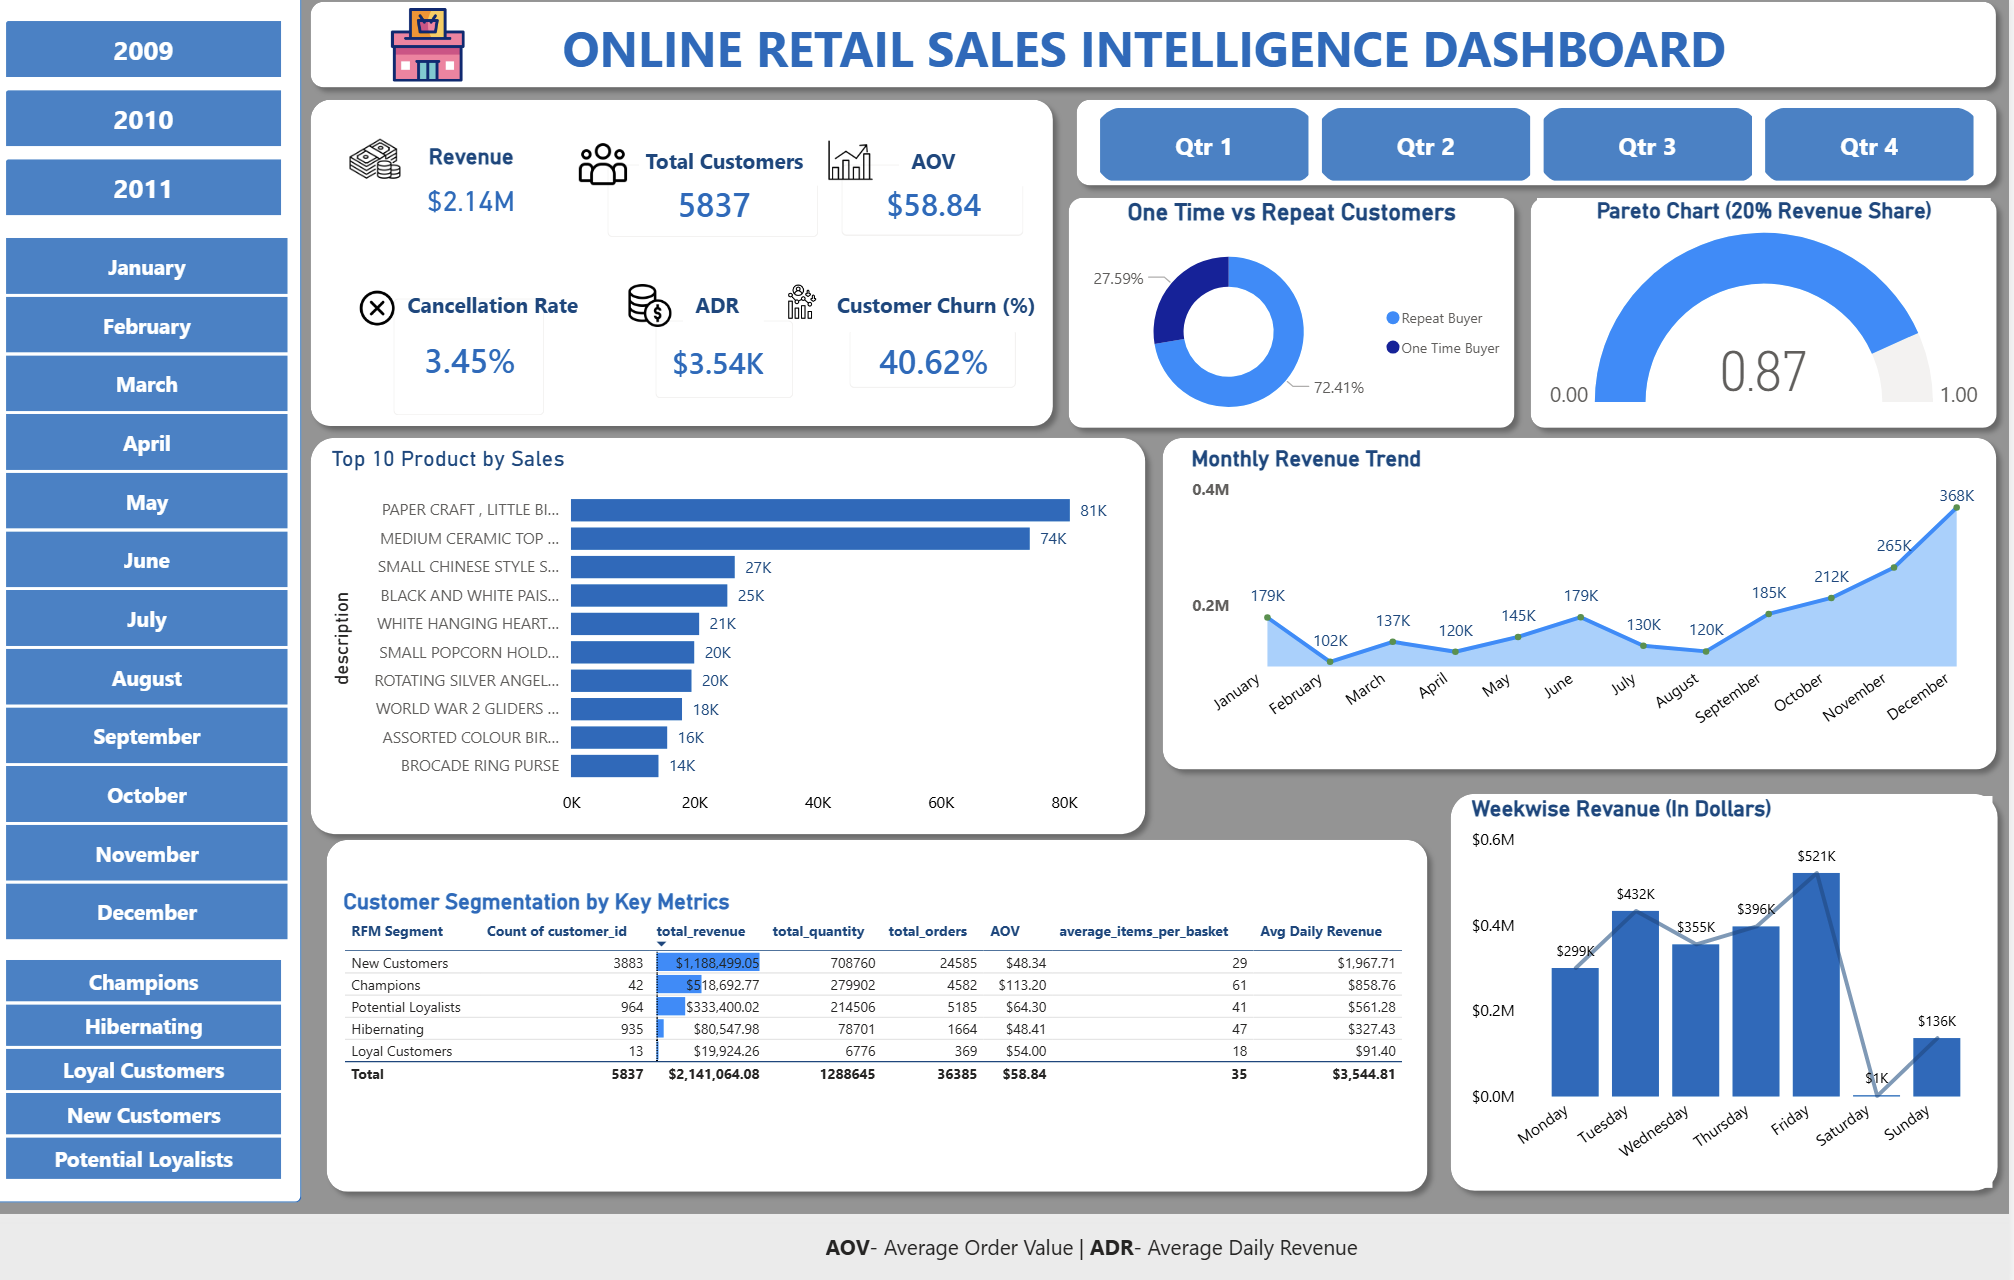

The page's visual inventory and layout, read from the dashboard file:
{"tool":"powerbi","page":{"name":"Page 1","canvas":[1560,1000],"ordinal":0},"visuals":[{"type":"shape","box":[830.1,149.7,359.7,194.4],"z":1000},{"type":"shape","box":[248.8,75.8,587.1,268.3],"z":2000},{"type":"card","title":"Revenue","fields":{"Values":["online_retail_data.total_revenue"]},"box":[294,118,172,68],"z":3000},{"type":"shape","box":[248.8,0,1310.3,83.6],"z":4000},{"type":"textbox","box":[248,14,1296,70],"z":5000},{"type":"shape","box":[836,75.8,723.2,83.6],"z":6000},{"type":"cardVisual","title":"Total Customers","fields":{"Data":["Count(online_retail_data.customer_id)"]},"box":[468,116,196,90],"z":7000},{"type":"cardVisual","title":"Average Order Value","fields":{"Data":["online_retail_data.AOV"]},"box":[647.4,116.6,175,89.4],"z":8000},{"type":"donutChart","title":"One Time vs Repeat Customers","fields":{"Category":["Customer_Type_Table.Buyer Type"],"Y":["Sum(Customer_Type_Table.customer_id)"]},"box":[836,159.4,348,184.7],"z":9000},{"type":"textbox","box":[709.1,114.9,97.2,35.3],"z":10000},{"type":"textbox","box":[509.3,114.7,153.6,35],"z":11000},{"type":"cardVisual","fields":{"Data":["online_retail_data.Avg Daily Revenue"]},"box":[504,236,140,94],"z":12000},{"type":"textbox","box":[542.4,225.5,62.2,42.8],"z":13000},{"type":"cardVisual","fields":{"Data":["Customer_Recency_Table.Churned Customers %"]},"box":[654,242,162,80],"z":14000},{"type":"textbox","box":[647.4,225.5,175,36.9],"z":15000},{"type":"shape","box":[13.3,0,236.7,930],"z":16000},{"type":"shape","box":[248,334,658,322],"z":17000},{"type":"shape","box":[902.1,334.4,657.1,272.2],"z":18000},{"type":"shape","box":[260,642,862,288],"z":20000},{"type":"shape","box":[1122.3,607.5,437.4,322.5],"z":21000},{"type":"shape","box":[1183.9,149.7,375.2,194.4],"z":22000},{"type":"shape","box":[0,930.1,1800.5,70.7],"z":23000},{"type":"textbox","box":[648,948,852,52],"z":24000},{"type":"image","box":[248.8,108.9,116.6,40.8],"z":25000},{"type":"image","box":[482.1,225.5,71.9,33],"z":26000},{"type":"image","box":[456.9,114.7,48.6,36.9],"z":27000},{"type":"image","box":[634,114,76,34],"z":28000},{"type":"image","box":[293.6,13.6,108.9,56.4],"z":29000},{"type":"gauge","title":"Pareto Chart (20% Revenue Share)","fields":{"Y":["online_retail_data.top_20_revenue_share"]},"box":[1197.6,159.4,348,169.1],"z":30000},{"type":"cardVisual","fields":{"Data":["online_retail_data.cancellation_rate"]},"box":[304,220,150,124],"z":31000},{"type":"textbox","box":[326,226,152,36],"z":32000},{"type":"image","box":[293.6,225.5,31.1,36.9],"z":33000},{"type":"image","box":[604.6,225.5,60.3,27.2],"z":34000},{"type":"advancedSlicerVisual","fields":{"Values":["online_retail_data.Order Date.Variation.Date Hierarchy.Year"]},"box":[13.3,13.3,232,170.1],"z":35000},{"type":"advancedSlicerVisual","fields":{"Values":["online_retail_data.Order Date.Variation.Date Hierarchy.Month"]},"box":[13.3,183.3,236.7,553.3],"z":36000},{"type":"advancedSlicerVisual","fields":{"Values":["online_retail_data.Order Date.Variation.Date Hierarchy.Quarter"]},"box":[853.5,83.6,692.1,68],"z":37000},{"type":"lineChart","title":"Monthly Revenue Trend","fields":{"Y":["online_retail_data.total_revenue"],"Category":["online_retail_data.Order Date.Variation.Date Hierarchy.Month"]},"box":[928,350,616,236],"z":38000},{"type":"lineStackedColumnComboChart","title":"Weekwise Revanue (In Dollars)","fields":{"Category":["online_retail_data.day_name"],"Y":["online_retail_data.total_revenue"],"Y2":["online_retail_data.total_revenue"]},"box":[1142.1,618.6,404.3,300.4],"z":39000},{"type":"advancedSlicerVisual","fields":{"Values":["RFM Table.RFM Segment"]},"box":[13.3,738.3,231.7,180],"z":41000},{"type":"clusteredBarChart","title":"Top 10 Product by Sales","fields":{"Category":["online_retail_data.description"],"Y":["online_retail_data.total_quantity"]},"box":[268,350,618,292],"z":42000},{"type":"tableEx","title":"Customer Segmentation by Key Metrics","fields":{"Values":["RFM Table.RFM Segment","Count(RFM Table.customer_id)","online_retail_data.total_revenue","online_retail_data.total_quantity","online_retail_data.total_orders","online_retail_data.AOV","online_retail_data.average_items_per_basket","online_retail_data.Avg Daily Revenue"]},"box":[278,674,826,226],"z":43000}]}

Visuals, with their boxes in screenshot pixels (x1, y1, x2, y2), scaled from the page's 1560x1000 canvas onto the 2014x1280 screenshot:
shape: locate(1072, 192, 1536, 440)
shape: locate(321, 97, 1079, 440)
"Revenue" card: locate(380, 151, 602, 238)
shape: locate(321, 0, 2013, 107)
textbox: locate(320, 18, 1993, 108)
shape: locate(1079, 97, 2013, 204)
"Total Customers" cardVisual: locate(604, 148, 857, 264)
"Average Order Value" cardVisual: locate(836, 149, 1062, 264)
"One Time vs Repeat Customers" donutChart: locate(1079, 204, 1529, 440)
textbox: locate(915, 147, 1041, 192)
textbox: locate(658, 147, 856, 192)
cardVisual - online_retail_data.Avg Daily Revenue: locate(651, 302, 831, 422)
textbox: locate(700, 289, 781, 343)
cardVisual - Customer_Recency_Table.Churned Customers %: locate(844, 310, 1053, 412)
textbox: locate(836, 289, 1062, 336)
shape: locate(17, 0, 323, 1190)
shape: locate(320, 428, 1170, 840)
shape: locate(1165, 428, 2013, 776)
shape: locate(336, 822, 1449, 1190)
shape: locate(1449, 778, 2013, 1190)
shape: locate(1528, 192, 2013, 440)
shape: locate(0, 1191, 2013, 1279)
textbox: locate(837, 1213, 1937, 1279)
image: locate(321, 139, 472, 192)
image: locate(622, 289, 715, 331)
image: locate(590, 147, 653, 194)
image: locate(819, 146, 917, 189)
image: locate(379, 17, 520, 90)
"Pareto Chart (20% Revenue Share)" gauge: locate(1546, 204, 1995, 420)
cardVisual - online_retail_data.cancellation_rate: locate(392, 282, 586, 440)
textbox: locate(421, 289, 617, 335)
image: locate(379, 289, 419, 336)
image: locate(781, 289, 858, 323)
advancedSlicerVisual - online_retail_data.Order Date.Variation.Date Hierarchy.Year: locate(17, 17, 317, 235)
advancedSlicerVisual - online_retail_data.Order Date.Variation.Date Hierarchy.Month: locate(17, 235, 323, 943)
advancedSlicerVisual - online_retail_data.Order Date.Variation.Date Hierarchy.Quarter: locate(1102, 107, 1995, 194)
"Monthly Revenue Trend" lineChart: locate(1198, 448, 1993, 750)
"Weekwise Revanue (In Dollars)" lineStackedColumnComboChart: locate(1474, 792, 1996, 1176)
advancedSlicerVisual - RFM Table.RFM Segment: locate(17, 945, 316, 1175)
"Top 10 Product by Sales" clusteredBarChart: locate(346, 448, 1144, 822)
"Customer Segmentation by Key Metrics" tableEx: locate(359, 863, 1425, 1152)
